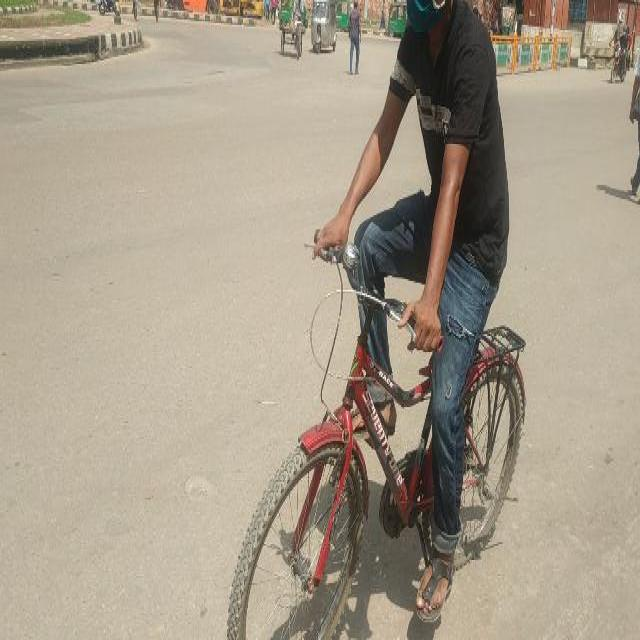10: (608, 42, 628, 82)
17: (309, 0, 337, 48), (387, 1, 405, 35)
20: (278, 10, 306, 58)
Motorcycle: (223, 226, 529, 638)
